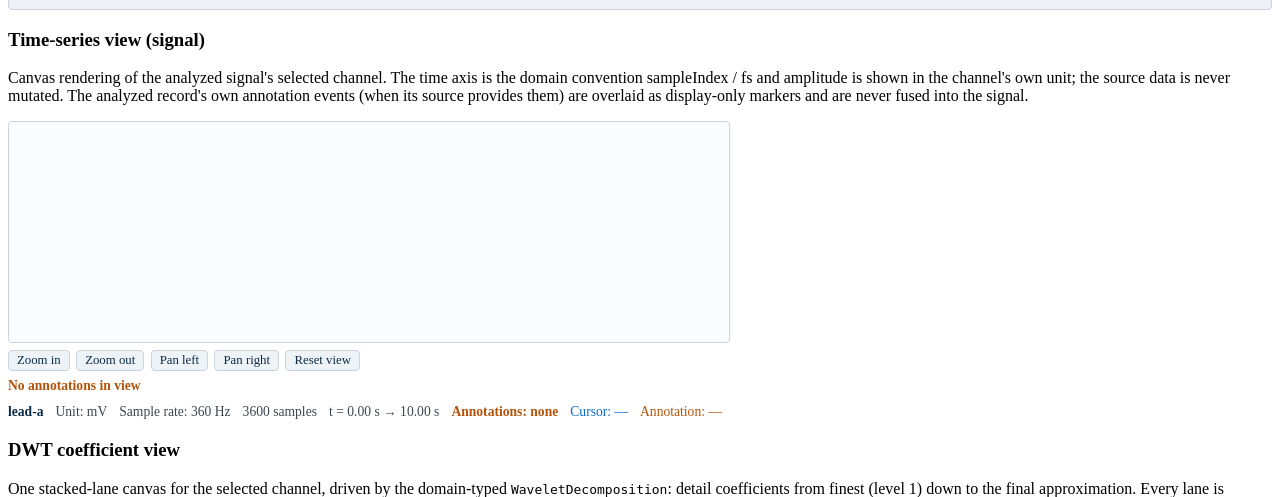
Test: App root bootstrap + interaction controls (jsdom slice) › display navigation (Phase 13 item 4) › adds and selects a Custom (zoomed) option when the view zooms in
(page scrolled)
What coordinates should you click on to do the following:
click the button "Zoom in"
I would click on:
 (39, 361)
Its box is [8, 350, 70, 372].
(page scrolled)
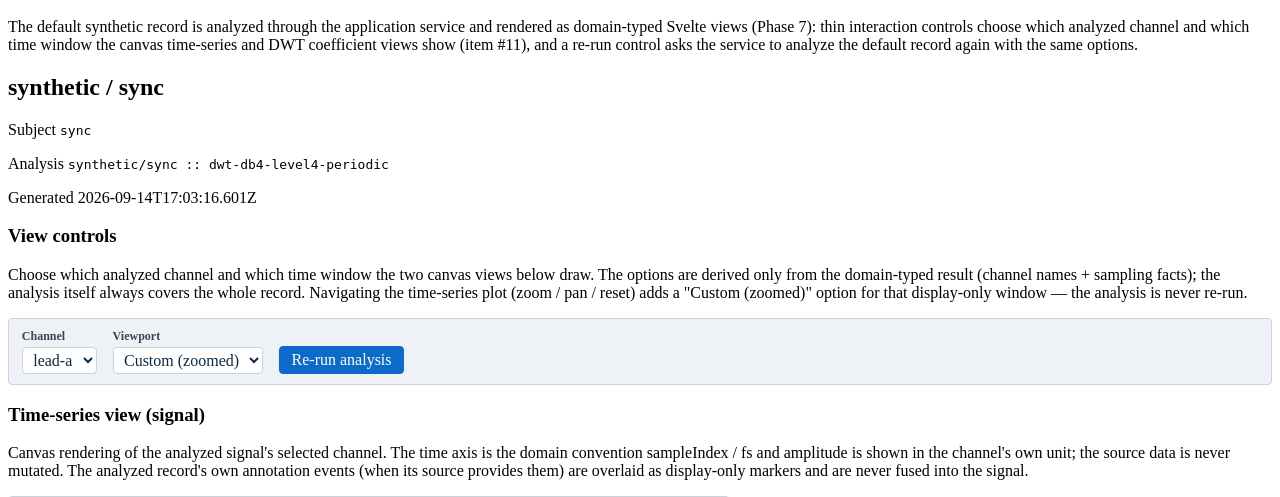
Expected: the dropdown named "Viewport" shows "Custom (zoomed)", [113, 347, 263, 374]
